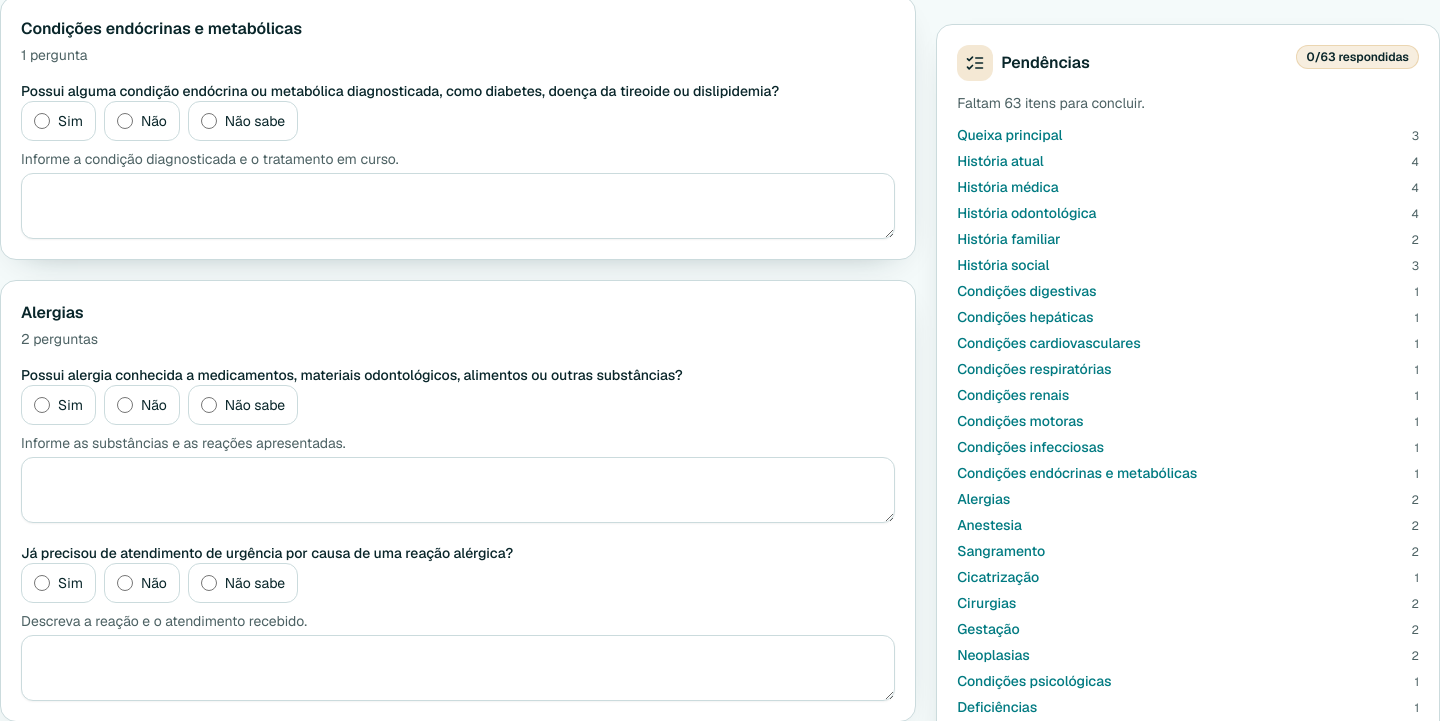
AnamnesisForm › saves the draft with the answered payload
The width and height of the screenshot is (1440, 721).
(page scrolled)
Click the 2nd radio button labelled "Sim" at (42, 405), box [34, 397, 50, 413]
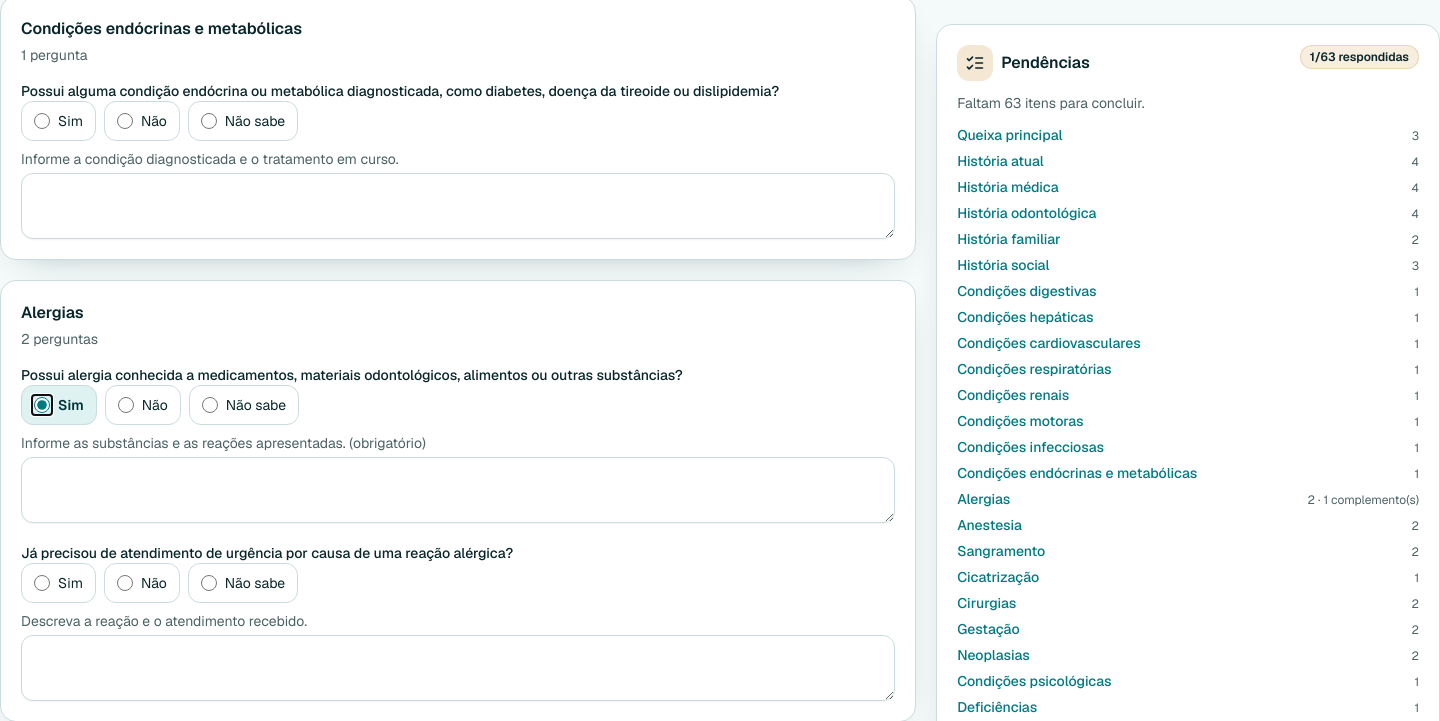
Type "Penicilina" into the text box labelled "Informe as substâncias e as reações" at (458, 490), box [21, 457, 895, 523]
(page scrolled)
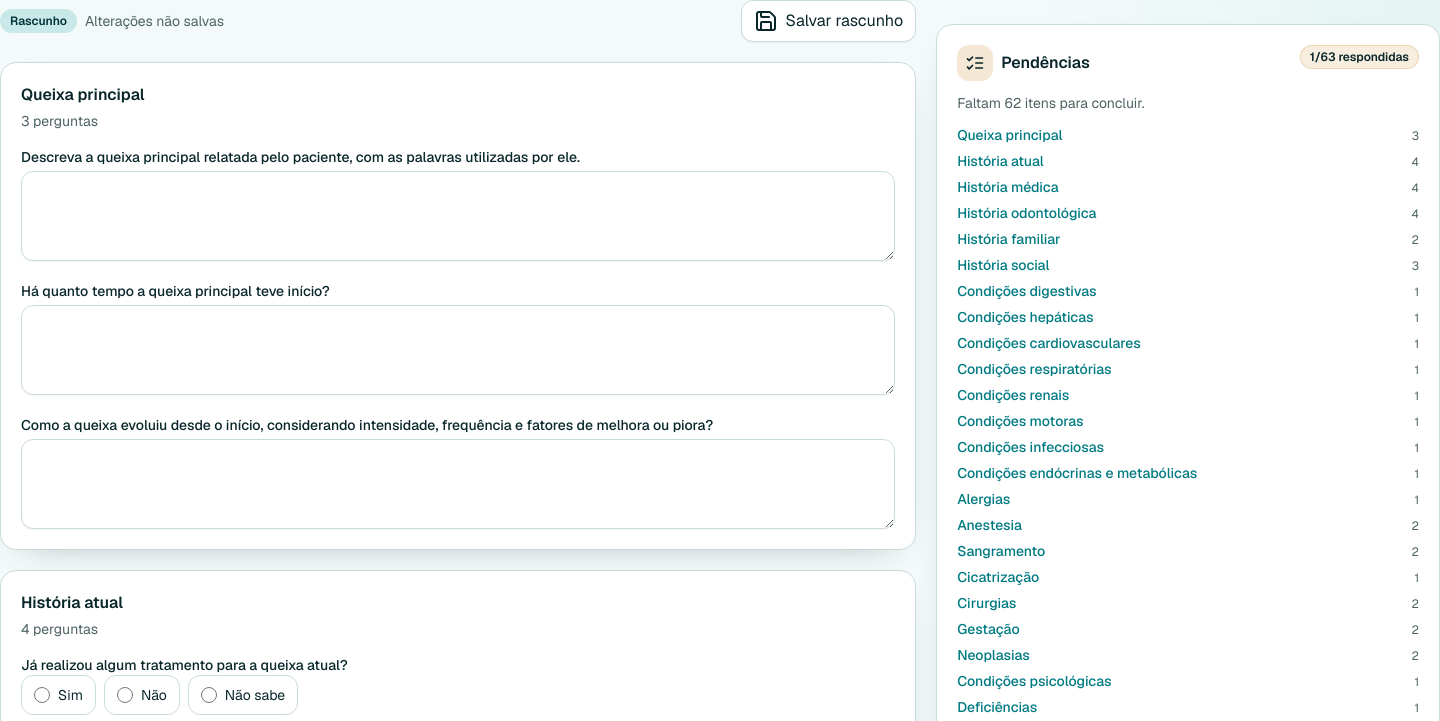
Click the button "Salvar rascunho" at (828, 21), box [741, 0, 916, 42]
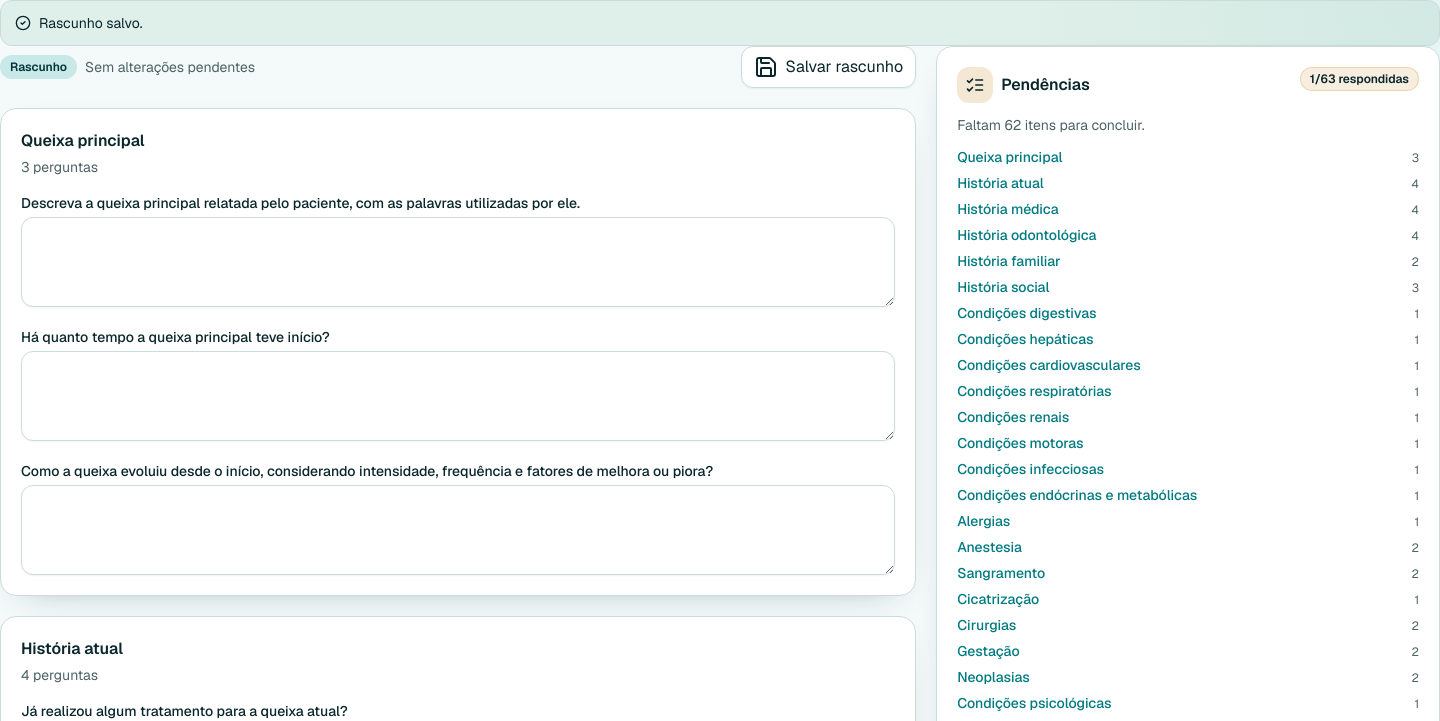
Check: the text "Rascunho salvo." is shown, box [39, 13, 142, 33]
